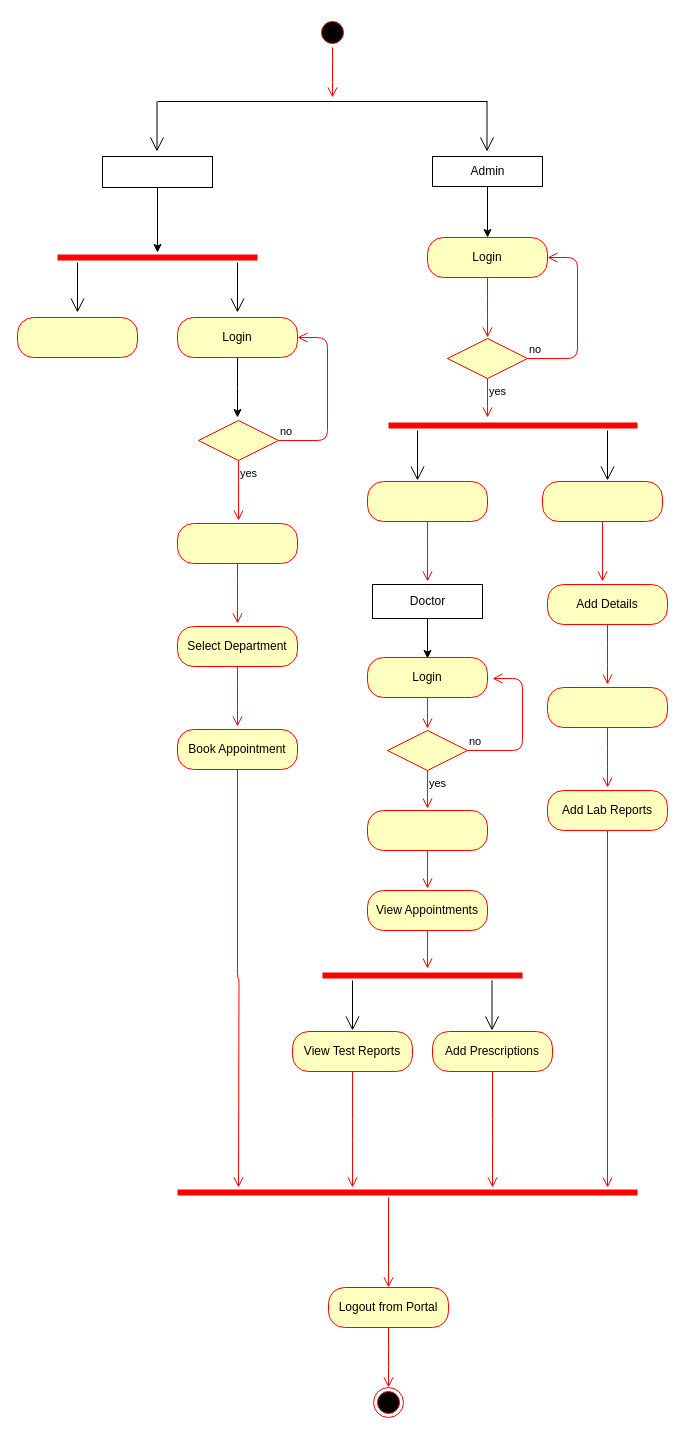
This 685x1435 diagram has some shape labels left out. Each missing label, with the centre of its shape:
Add Department: point 607,707
Add Doctor: point 427,501
Add Patient: point 602,501
Patient: point 157,172
Register: point 77,337
View Details: point 237,543
View Patient: point 427,830
